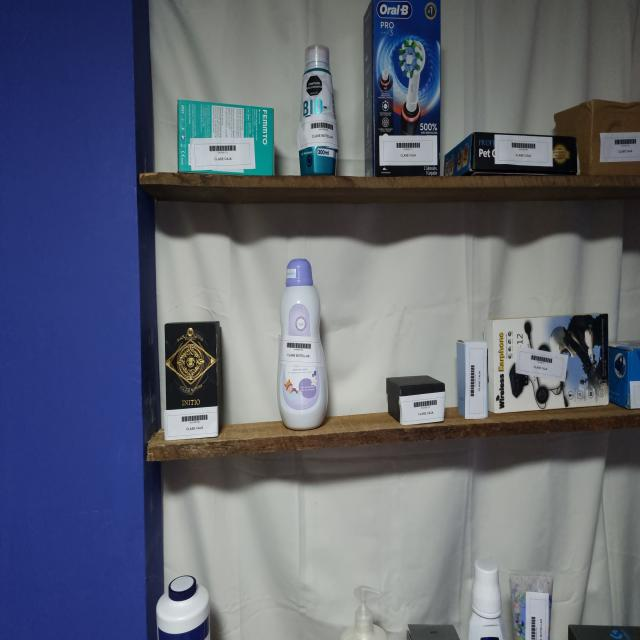botella: (277, 258, 328, 430), (297, 45, 338, 175), (156, 575, 210, 640), (508, 571, 553, 640), (468, 559, 504, 640), (341, 586, 388, 640)
caja: (364, 0, 441, 177), (485, 314, 609, 413), (178, 100, 274, 175), (163, 322, 220, 440), (555, 99, 640, 176), (444, 132, 579, 176), (386, 375, 445, 425), (456, 340, 488, 419), (610, 340, 640, 409)
